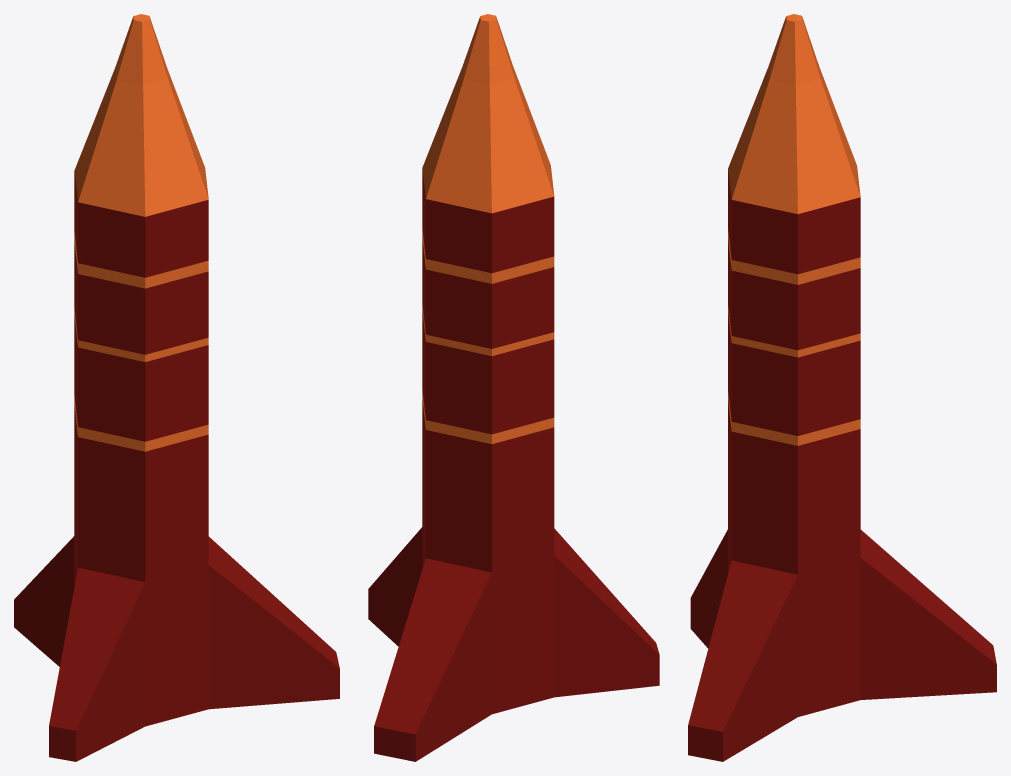
Rendered from Missilev1 .fbx.
3 renders of one model, left to right at view 1: azimuth 30°, elevation 25°; view 2: azimuth 150°, elevation 25°; view 3: azimuth 270°, elevation 25°, orthographic.
Parts seen in each view (by area): view 1: Missile 3; view 2: Missile 3; view 3: Missile 3.
Part boxes in pixels (box(x1,y1,x2,y2)): Missile 3: box(14, 14, 339, 761); Missile 3: box(368, 14, 659, 761); Missile 3: box(688, 14, 996, 761).
Size of the model in its own units: 12.29 by 27.23 by 11.41.
